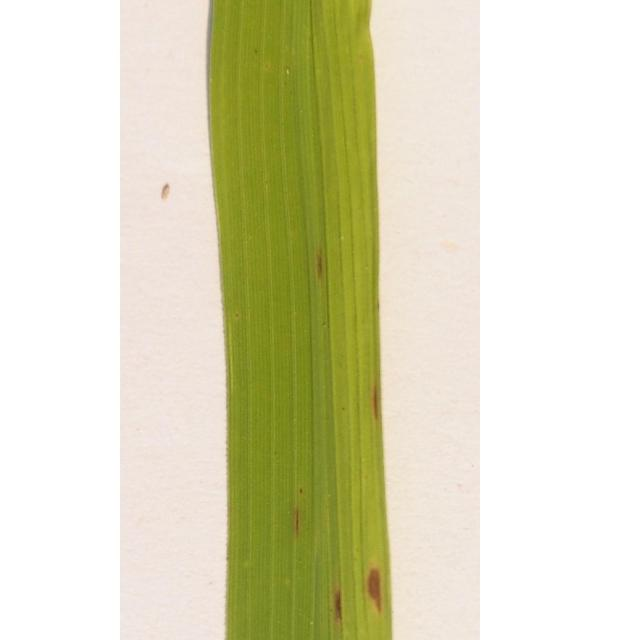Brown spot: (274, 483, 334, 538), (358, 557, 388, 622), (360, 355, 382, 443), (320, 573, 348, 634), (304, 240, 344, 280)
